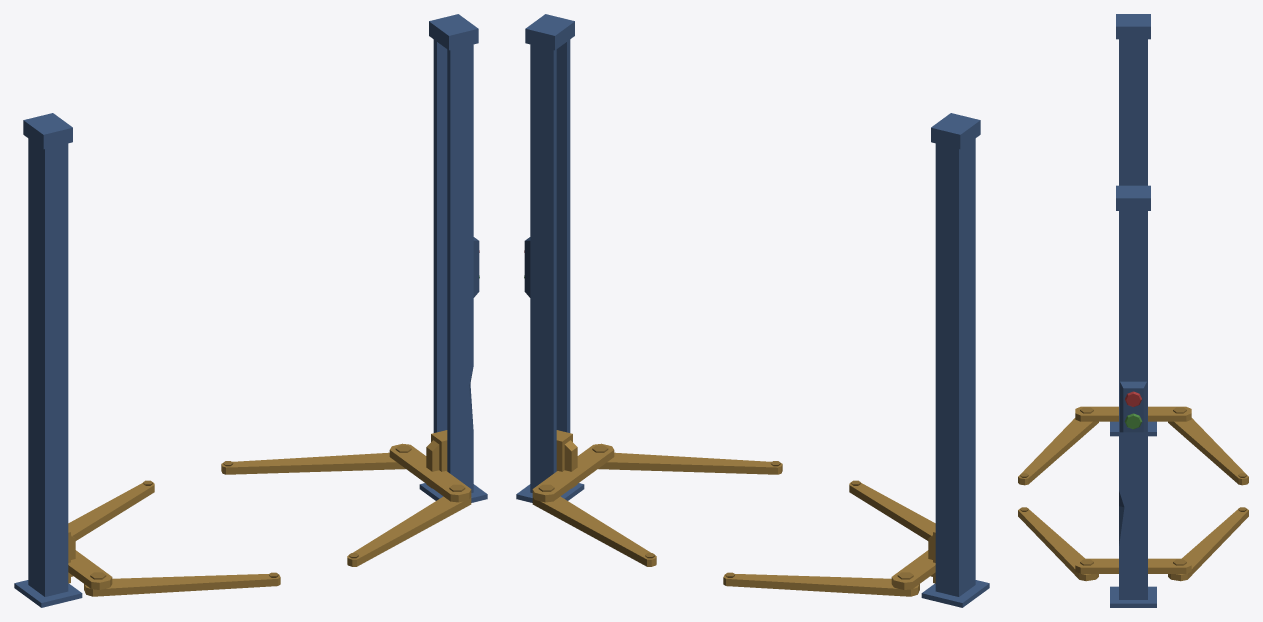
Rendered from SM_Props_Interior_Shop_AutoRepair_CarLift_01.fbx.
The picture shows the model from 3 angles, left to right: view 1: azimuth 30°, elevation 25°; view 2: azimuth 150°, elevation 25°; view 3: azimuth 270°, elevation 25°; orthographic projection. The views are drawn at different scales.
Parts seen in each view (by area): view 1: SM_Props_Interior_Shop_AutoRepair_CarLift_01, SM_Props_Interior_Shop_AutoRepair_CarLift_01_Lift; view 2: SM_Props_Interior_Shop_AutoRepair_CarLift_01, SM_Props_Interior_Shop_AutoRepair_CarLift_01_Lift; view 3: SM_Props_Interior_Shop_AutoRepair_CarLift_01, SM_Props_Interior_Shop_AutoRepair_CarLift_01_Lift.
Boxes of the visible parts, x1,y1,x2,y2 form: SM_Props_Interior_Shop_AutoRepair_CarLift_01: (14,14,487,607); SM_Props_Interior_Shop_AutoRepair_CarLift_01_Lift: (68,430,471,596); SM_Props_Interior_Shop_AutoRepair_CarLift_01: (516,14,989,607); SM_Props_Interior_Shop_AutoRepair_CarLift_01_Lift: (532,430,935,596); SM_Props_Interior_Shop_AutoRepair_CarLift_01: (1110,14,1156,607); SM_Props_Interior_Shop_AutoRepair_CarLift_01_Lift: (1018,406,1248,581).
Bounding box in the file's own units: 387 × 387 × 199.
